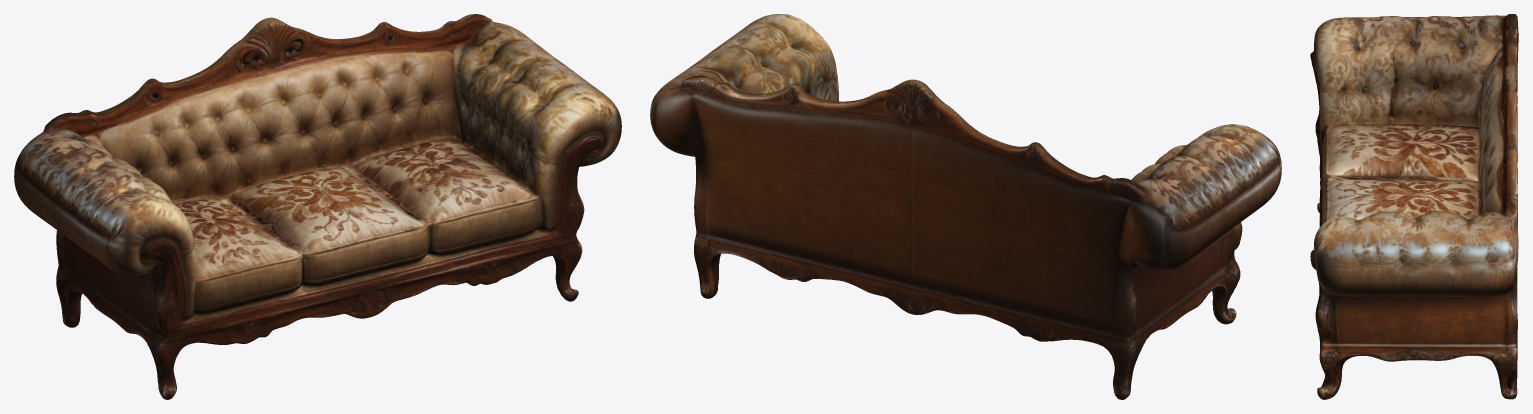
Rendered from Sofa_3seats_0228110804_texture.fbx.
The picture shows the model from 3 angles, left to right: view 1: azimuth 30°, elevation 25°; view 2: azimuth 150°, elevation 25°; view 3: azimuth 270°, elevation 25°; orthographic projection. The views are drawn at different scales.
Visible parts, largest first — view 1: Mesh_0; view 2: Mesh_0; view 3: Mesh_0.
Boxes of the visible parts, x1,y1,x2,y2 form: Mesh_0: (14, 14, 621, 399); Mesh_0: (650, 14, 1281, 399); Mesh_0: (1310, 14, 1518, 399).
Bounding box in the file's own units: 200 × 95.87 × 74.95.
Materials: 1 (1 with a texture image).
